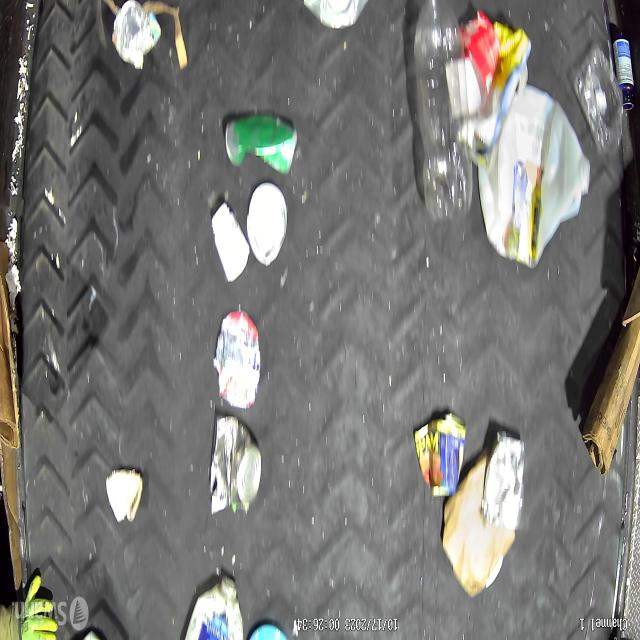can: (210, 417, 262, 511), (224, 112, 298, 173)
milk_jug: (476, 88, 588, 270)
plastic_bottle: (413, 0, 472, 223)
